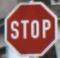Stop sign: (0, 0, 59, 57)
